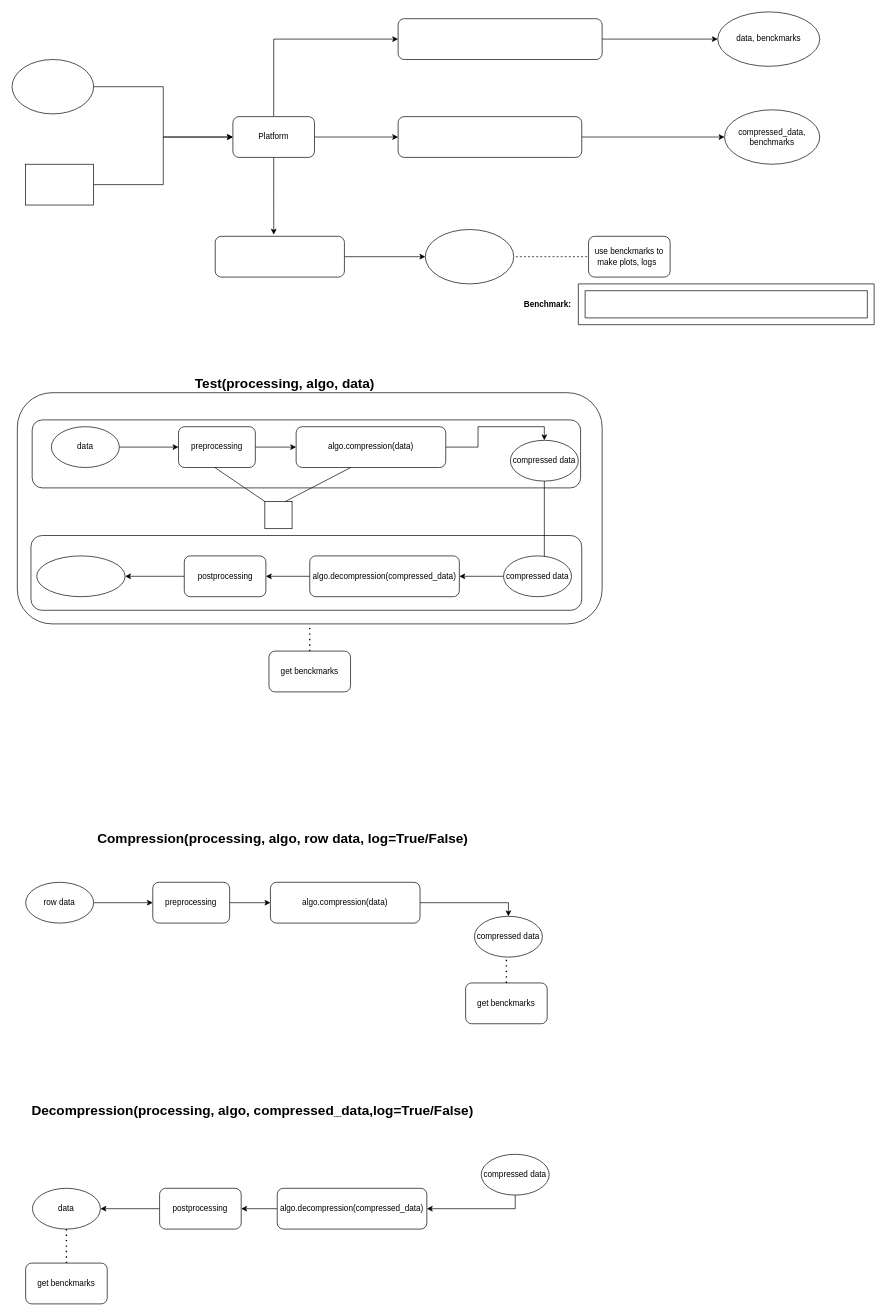
Some shapes in this 886 by 1316 pixel diagram are drawn without their labels. The shapes that lost their labels are listed below. From the top down, each one's centre as x and y in pixels, then its label:
At point (499, 39): "decompression( processing, algo, compressed_data)".
At point (52, 86): "raw data".
At point (489, 136): "compression (processing, algo, row data)".
At point (59, 184): "Platform config".
At point (279, 256): "test (processing, algo, row data)".
At point (469, 256): "get benchmark".
At point (726, 304): "Compression Rate, compression time, decompression time, loss rate...".
At point (278, 515): "config".
At point (80, 576): "decompressed_data".
